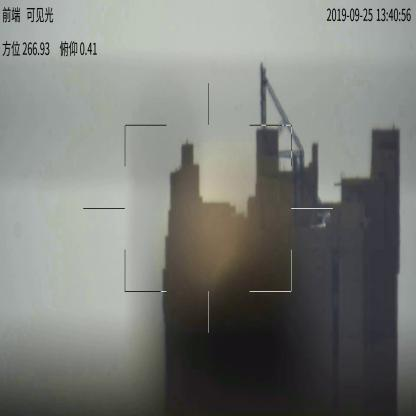uav: (240, 236, 254, 260)
